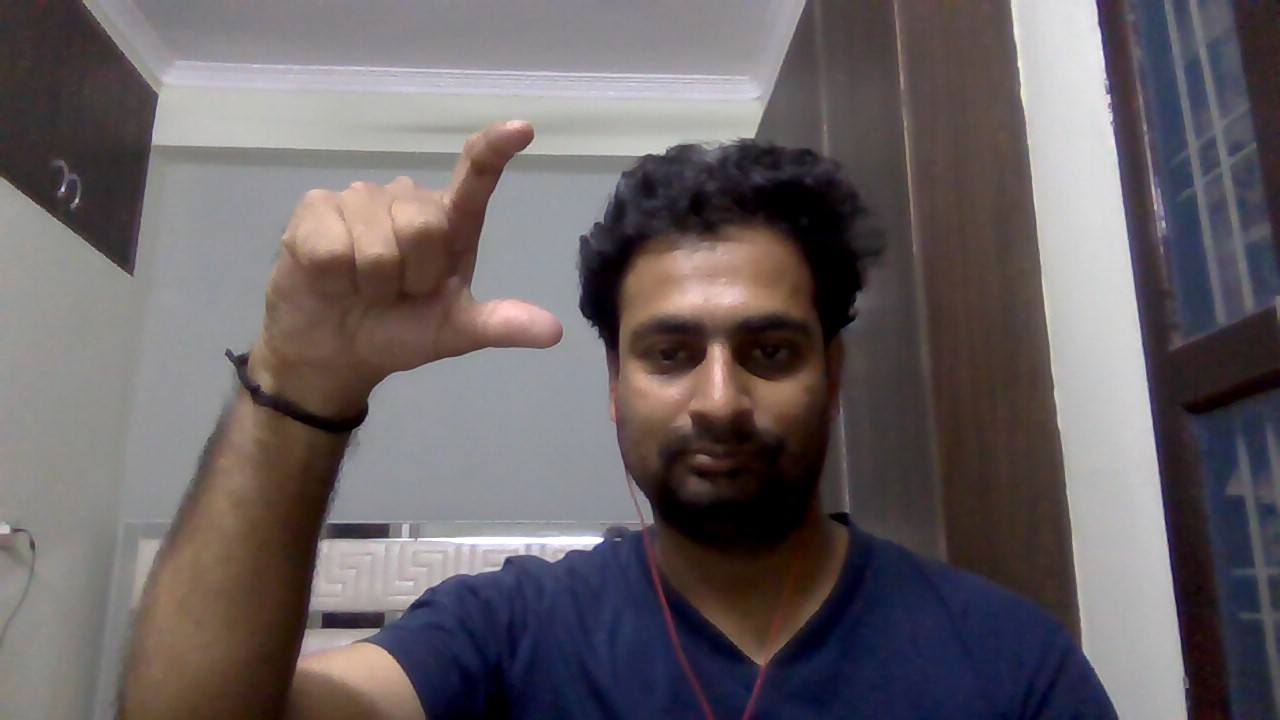Paste: (257, 105, 583, 403)
